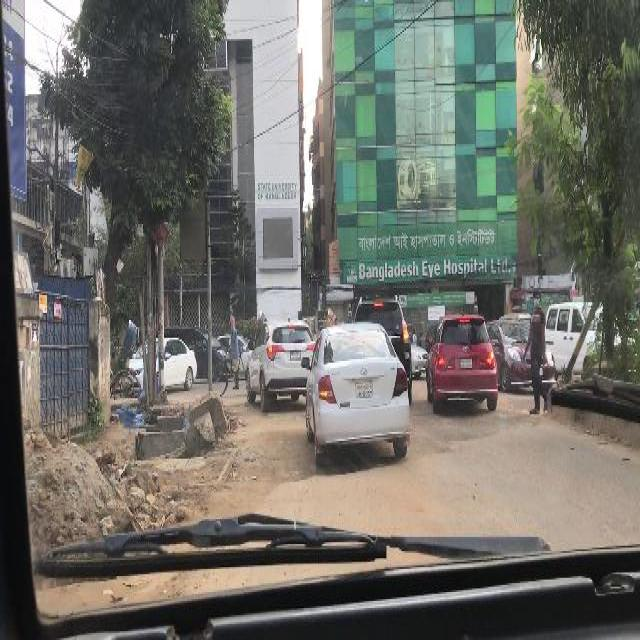car: (304, 330, 411, 456), (130, 330, 194, 394), (214, 331, 252, 377)
minivan: (356, 292, 412, 398), (546, 306, 626, 379)
rickshaw: (108, 317, 140, 401)
suv: (424, 313, 498, 409), (246, 326, 312, 410), (492, 318, 554, 393), (409, 342, 426, 376)
